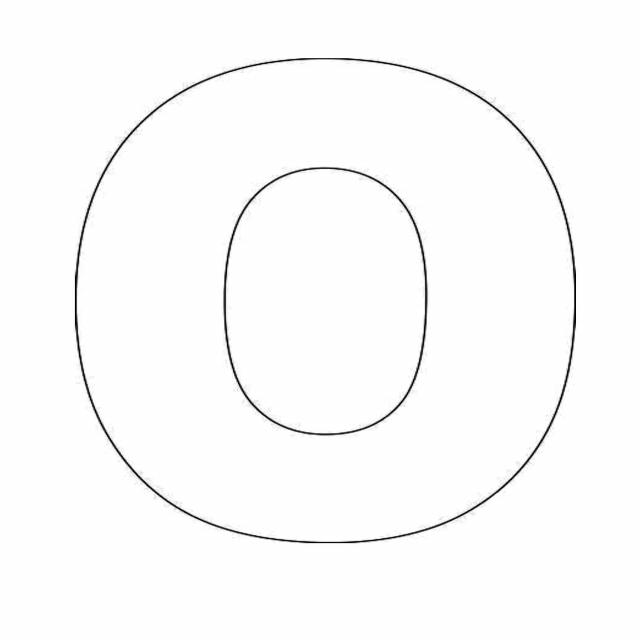O: (30, 27, 618, 618)
